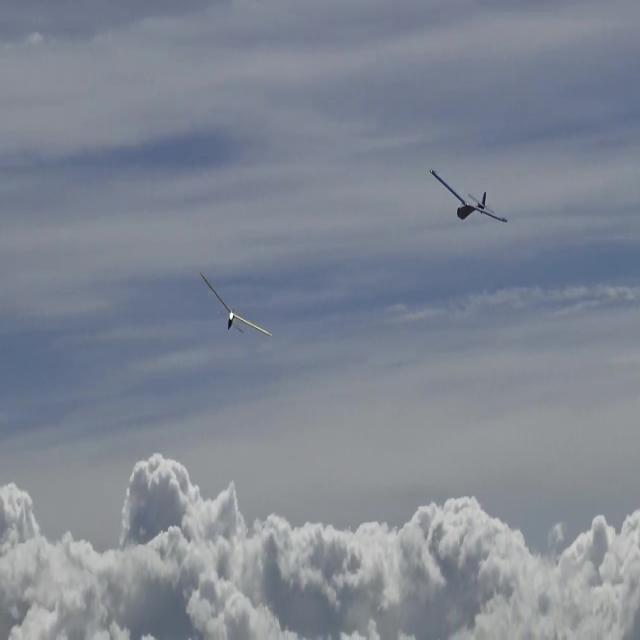iha: (461, 168, 477, 225), (234, 303, 239, 304)
